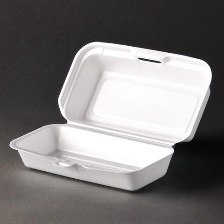foam_box: (1, 33, 218, 196)
